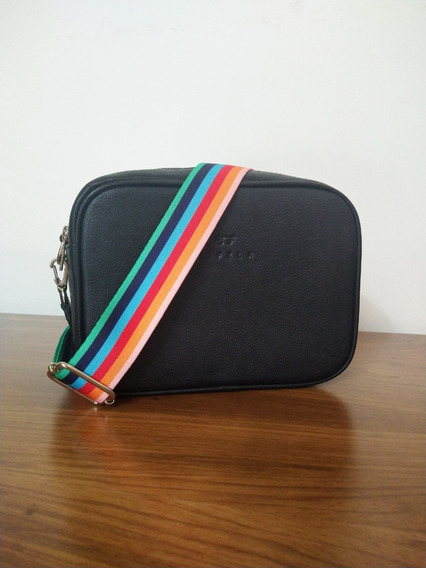cartera: (51, 163, 364, 402)
